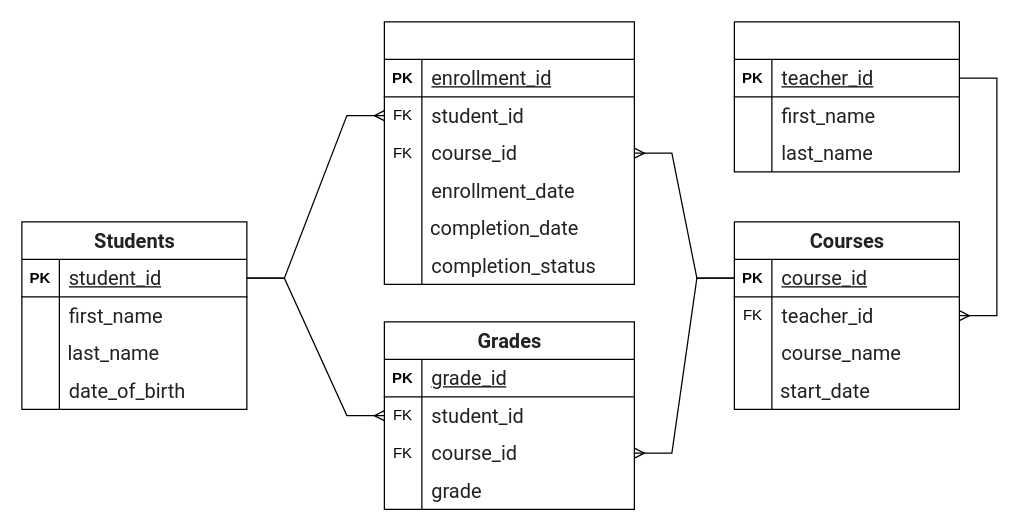
This 1029x531 diagram has some shape labels left out. The shapes that lost their labels are listed below. From the top down, each one's box as (x1, y1, x2, y2) in pixels, then its label:
(733, 21, 959, 172): Teachers
(383, 21, 634, 284): Enrollments
